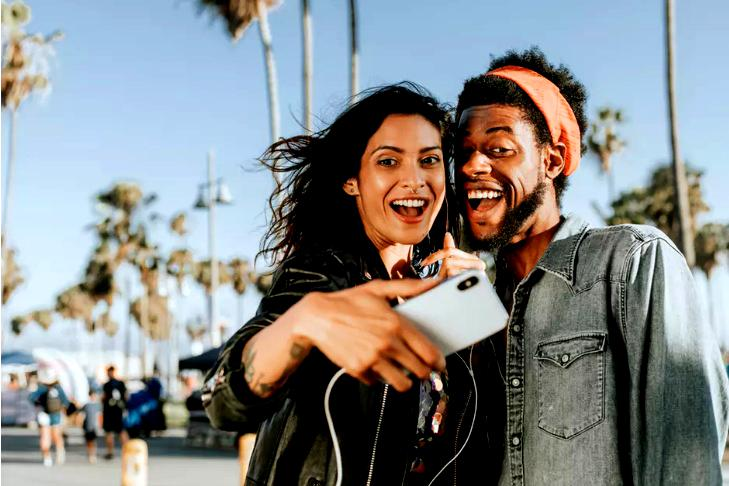face: (454, 106, 541, 246), (356, 115, 446, 243)
